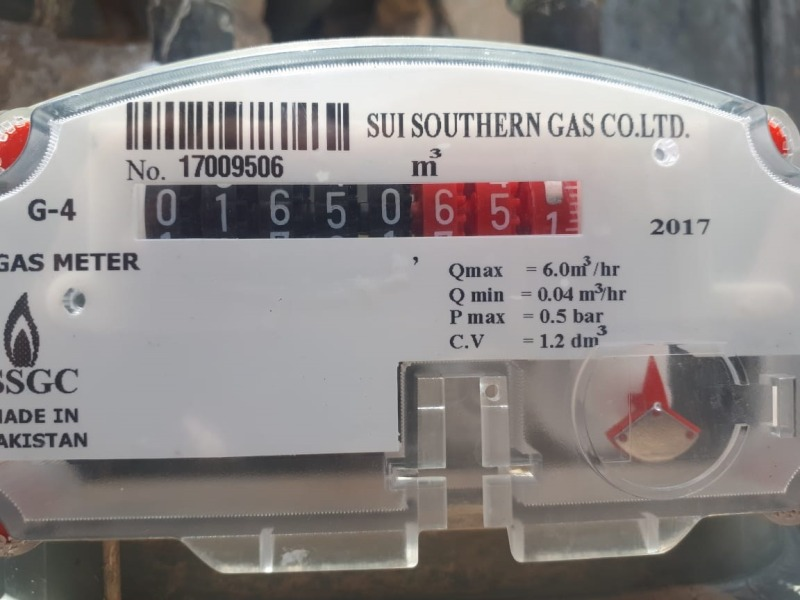ssgc: (128, 177, 586, 243)
